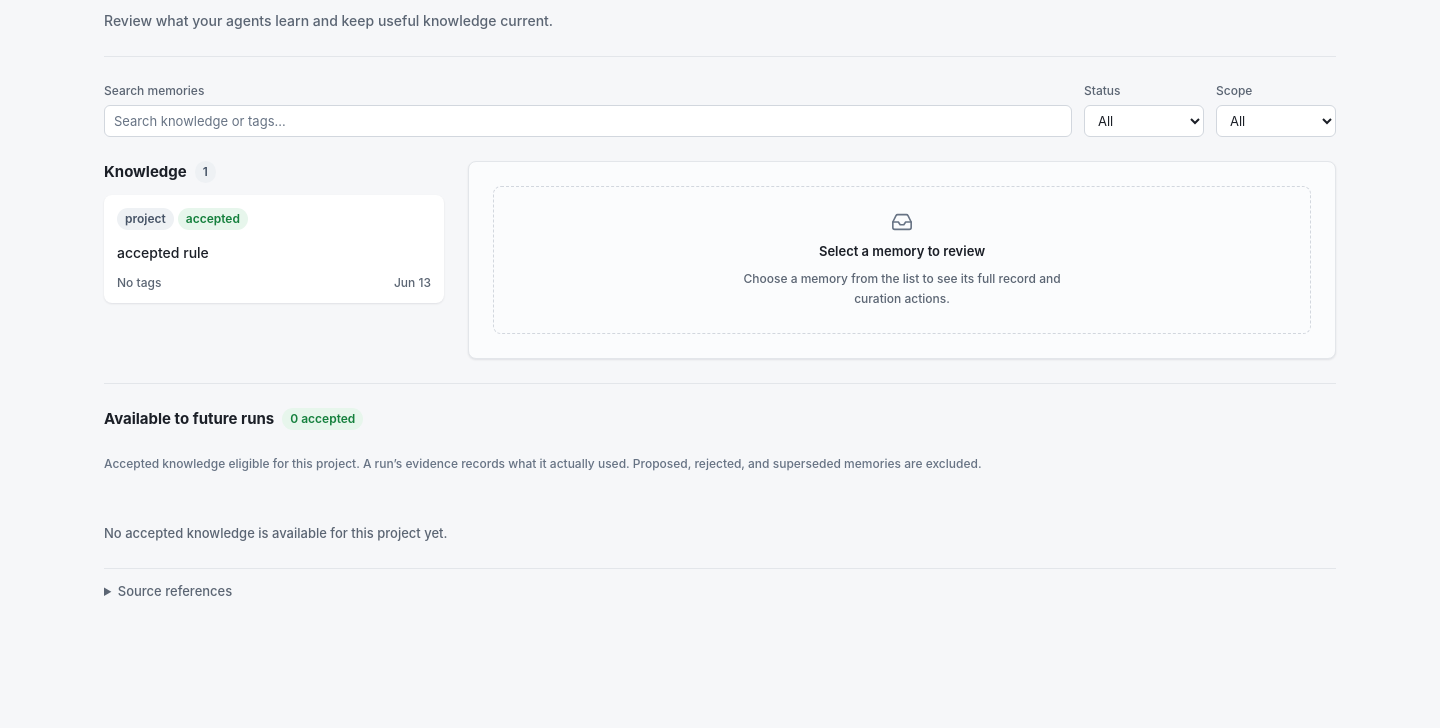
Test: MemoryPage › keeps a replacement draft after a failed save and sends it when retried
Click the text "accepted rule".
click(163, 253)  # box [117,242,209,263]
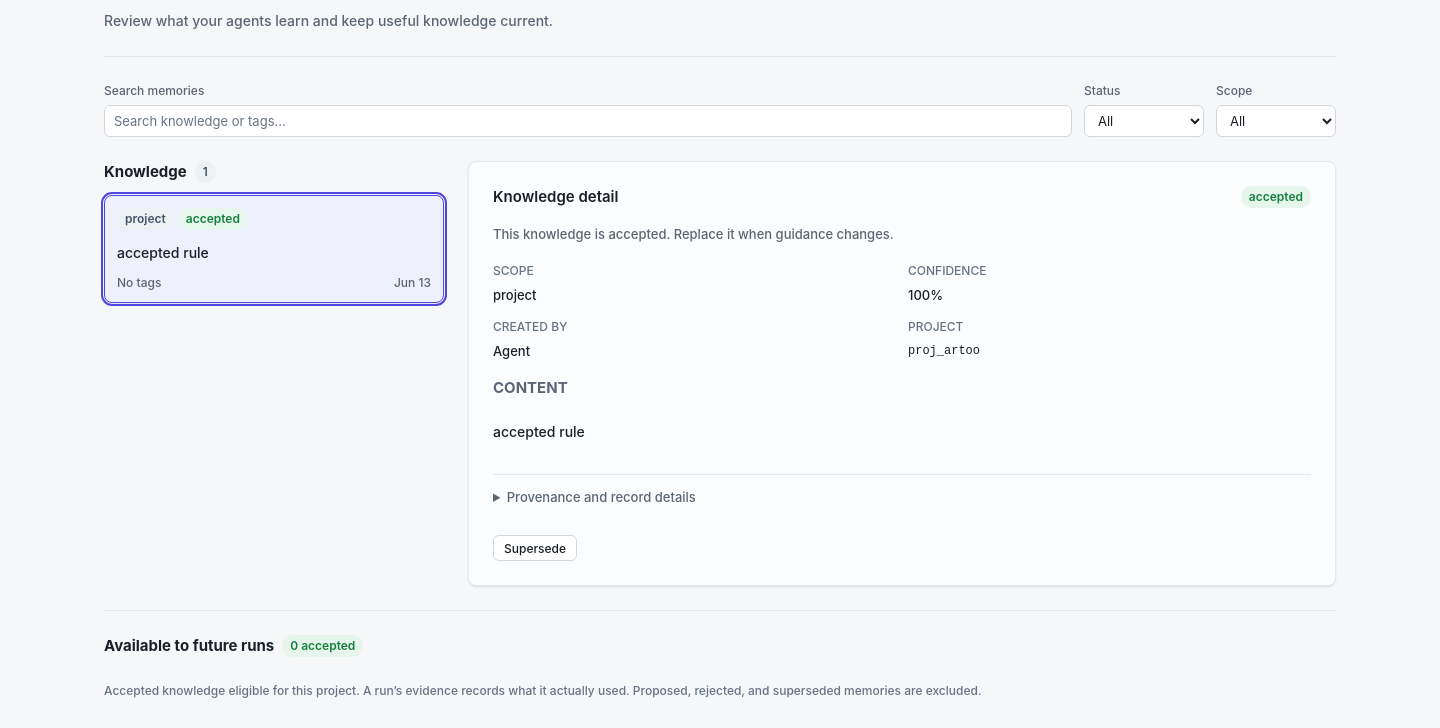
Click the button "Supersede".
click(535, 548)  # box [493,535,577,561]
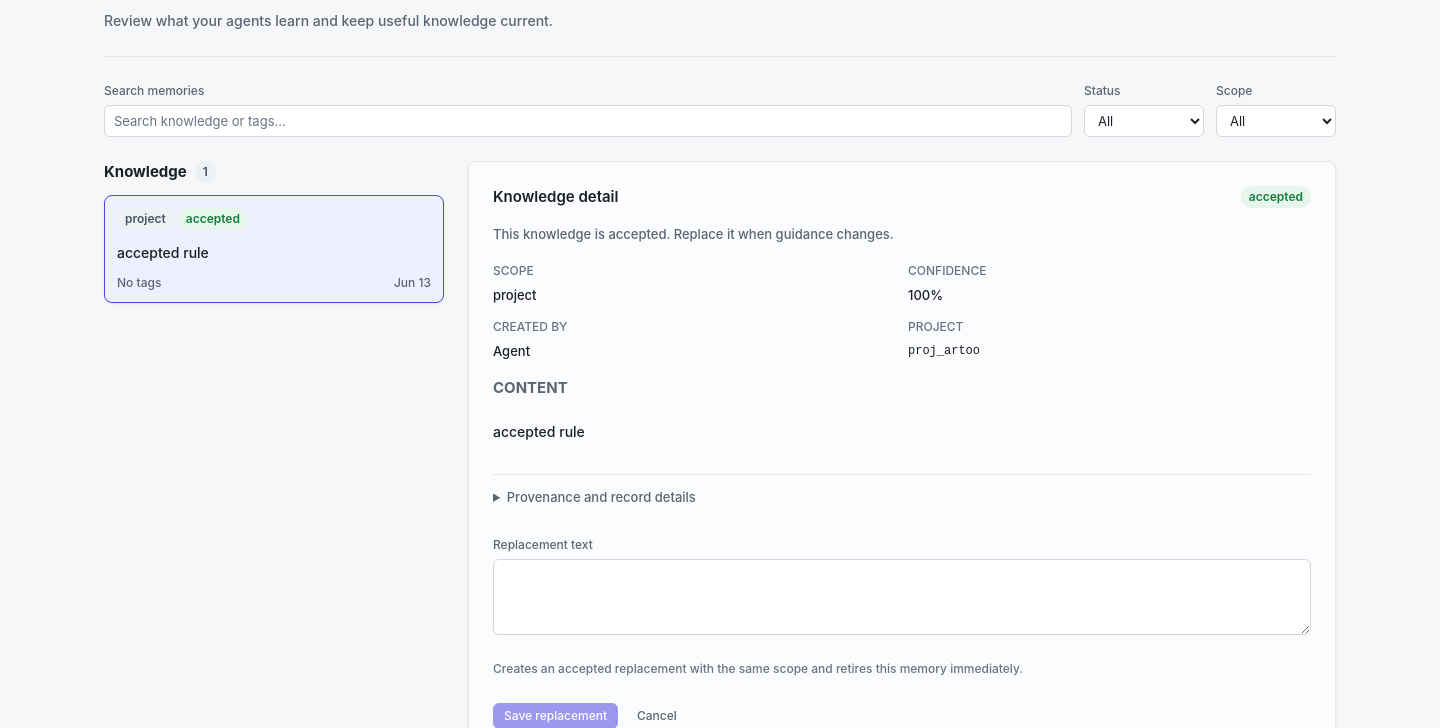
Type "Preserve this carefully written replacement" into the text box labelled "Replacement text".
click(902, 597); type("Preserve this carefully written replacement")  # box [493,559,1311,635]
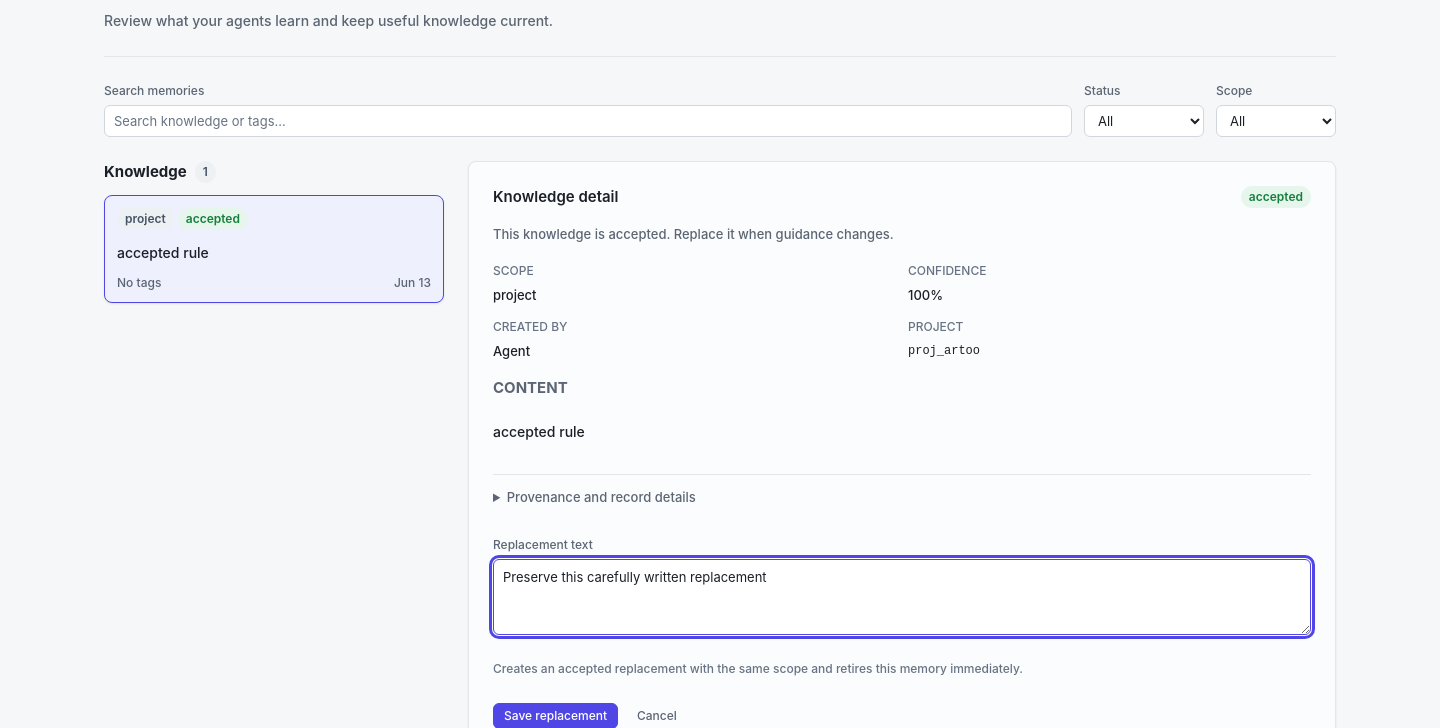
Click the button "Save replacement".
click(556, 716)  # box [493,703,618,727]
(page scrolled)
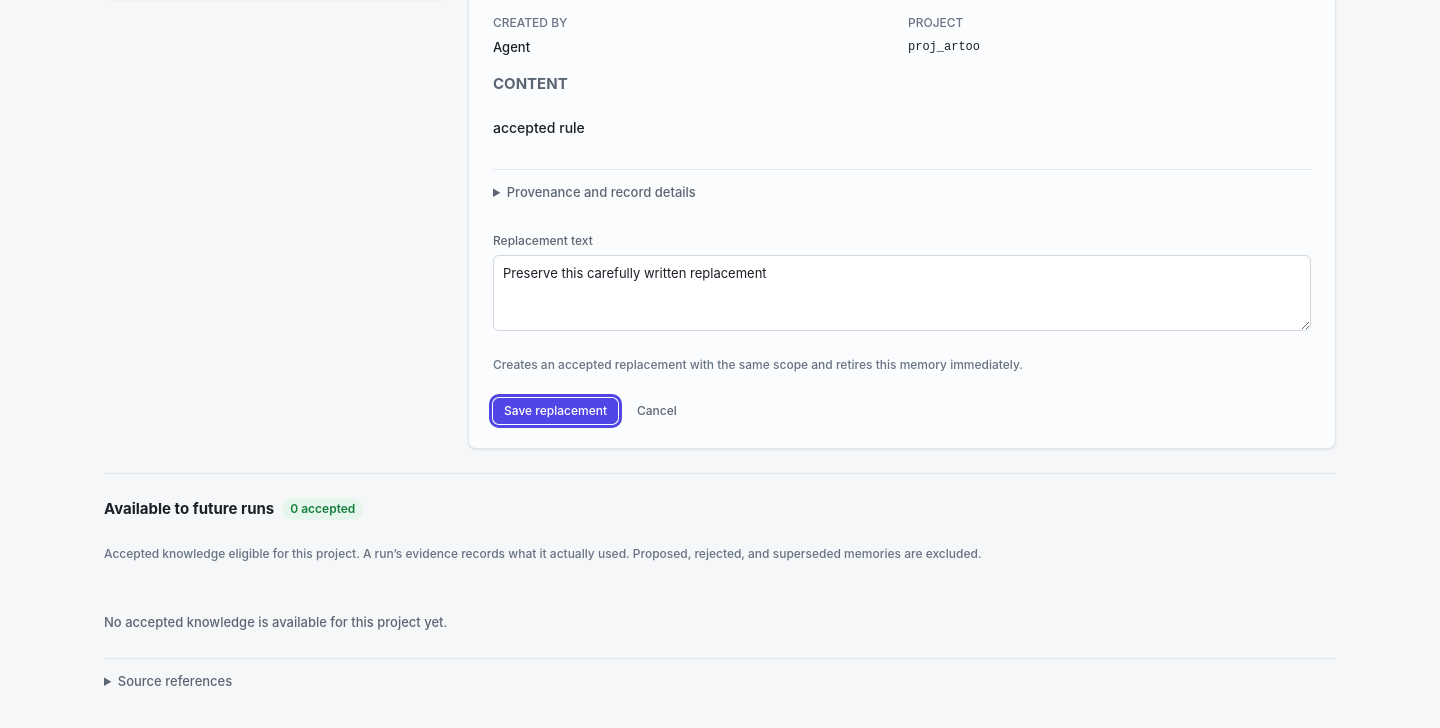
Click the button "Save replacement".
click(556, 411)  # box [493,398,618,424]
(page scrolled)
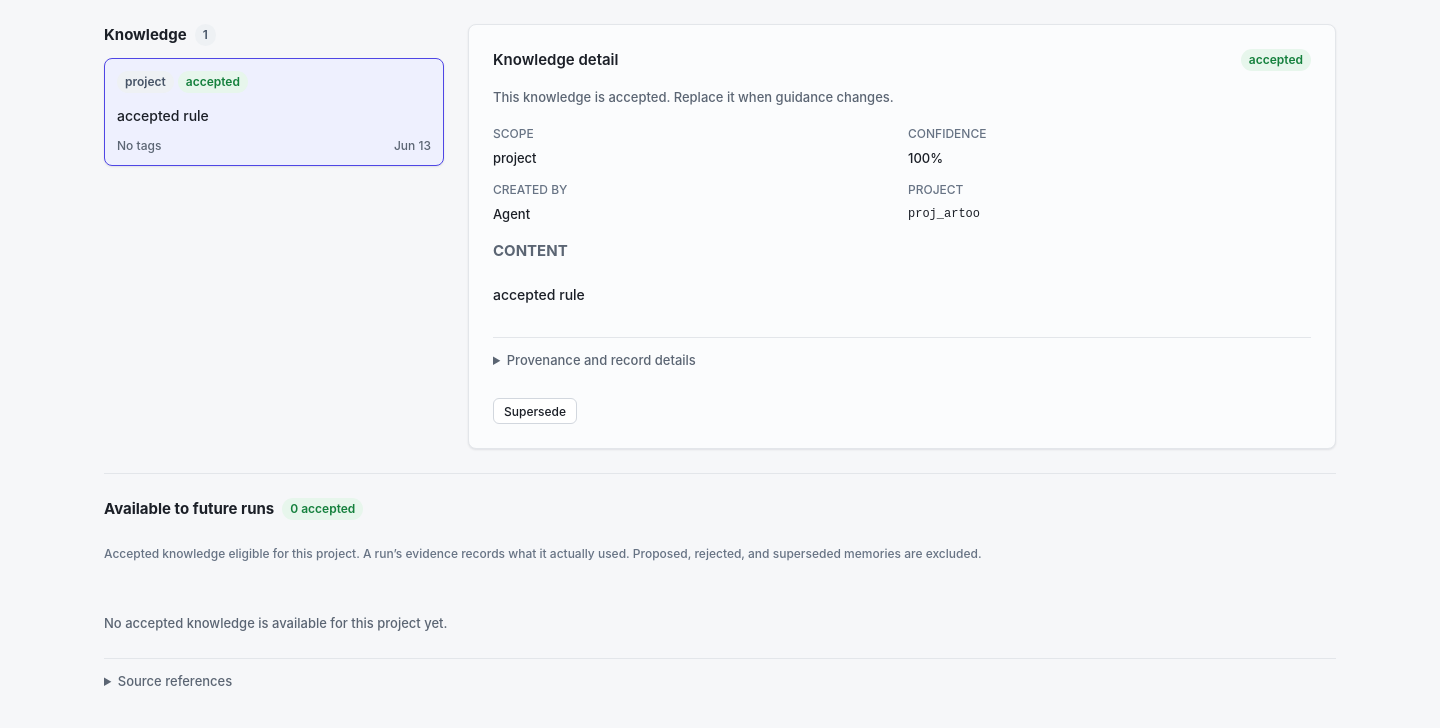
Expected: the label labelled "Replacement text" is gone
